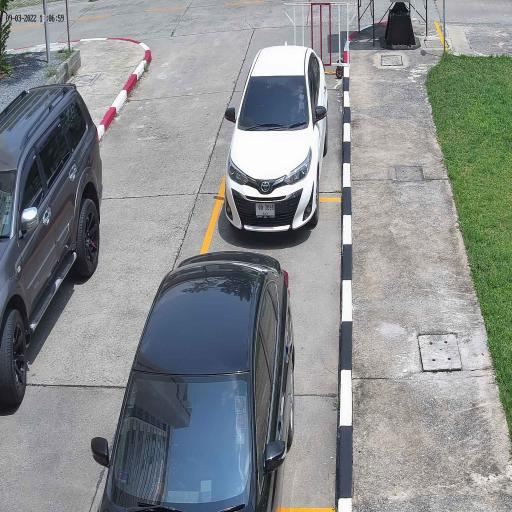car: (96, 248, 298, 512), (0, 82, 104, 410), (224, 42, 329, 234)
